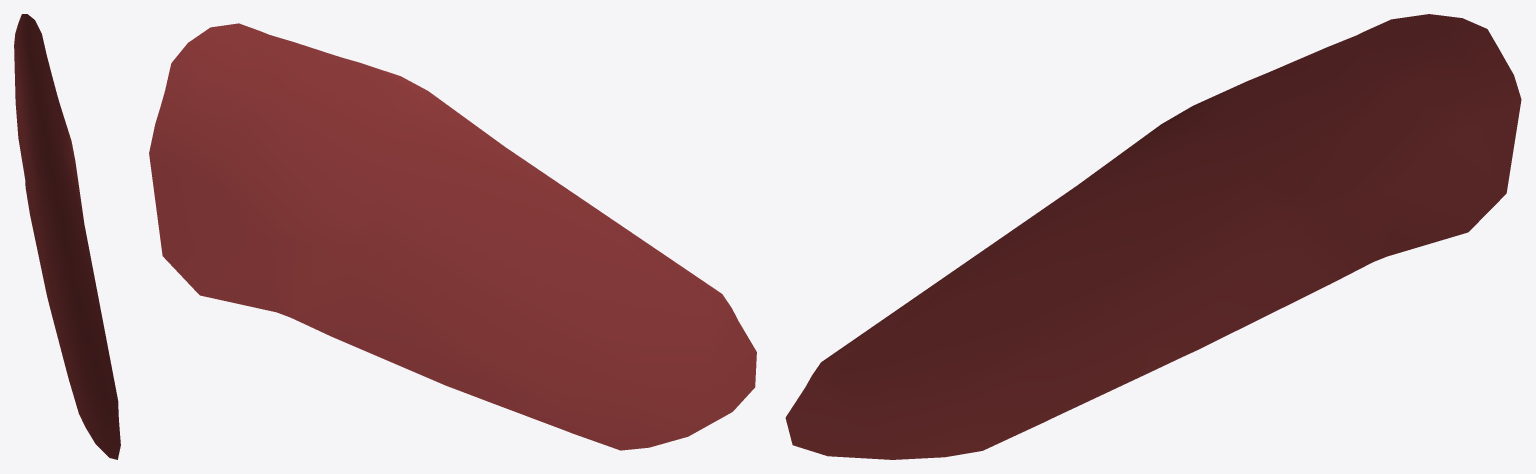
The model's file is serratus-anterior-muscle-e8l.glb.
The picture shows the model from 3 angles, left to right: view 1: azimuth 30°, elevation 25°; view 2: azimuth 150°, elevation 25°; view 3: azimuth 270°, elevation 25°; orthographic projection. The views are drawn at different scales.
Parts seen in each view (by area): view 1: Serratus anterior muscle.e8l; view 2: Serratus anterior muscle.e8l; view 3: Serratus anterior muscle.e8l.
Boxes of the visible parts, box(x1,y1,x2,y2) form: Serratus anterior muscle.e8l: box(14, 14, 120, 459); Serratus anterior muscle.e8l: box(149, 23, 756, 450); Serratus anterior muscle.e8l: box(785, 14, 1521, 459).
Size of the model in its own units: 0.00787 by 0.0221 by 0.0281.
